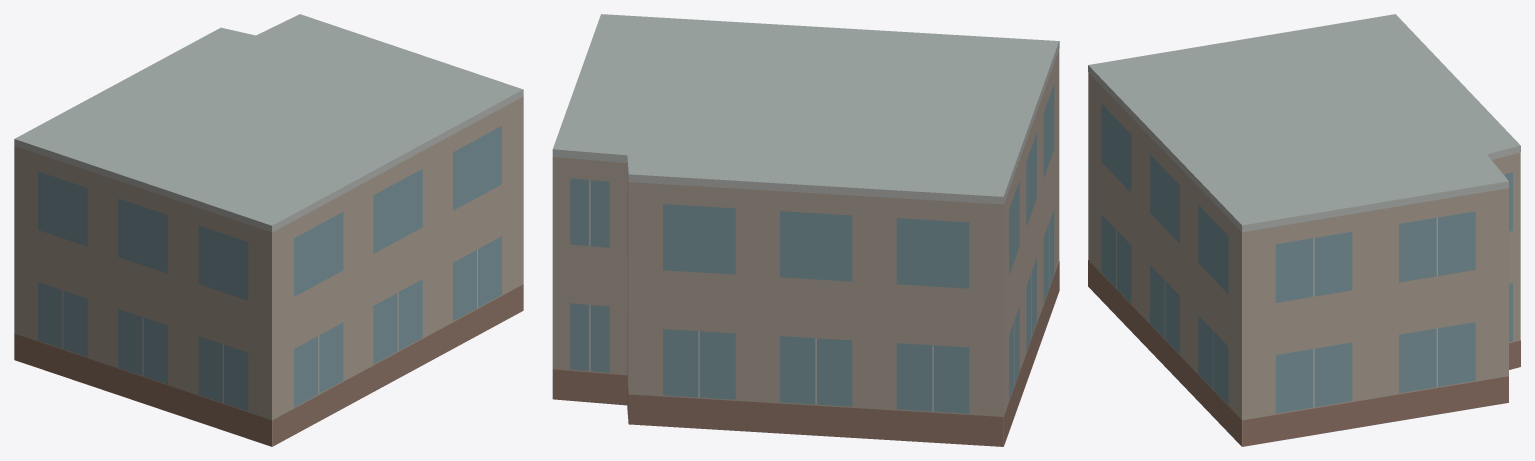
Rendered from survey-upis-32853873.glb.
3 views of the same model, side by side, from view 1: azimuth 30°, elevation 25°; view 2: azimuth 150°, elevation 25°; view 3: azimuth 270°, elevation 25° (orthographic). The views are drawn at different scales.
Visible parts, largest first — view 1: survey-upis-32853873.tmp; view 2: survey-upis-32853873.tmp; view 3: survey-upis-32853873.tmp.
Boxes of the visible parts, <box> form: survey-upis-32853873.tmp: <box>14,14,523,446</box>; survey-upis-32853873.tmp: <box>552,14,1059,446</box>; survey-upis-32853873.tmp: <box>1088,14,1520,446</box>.
Size of the model in its own units: 16.19 by 7.9 by 14.
